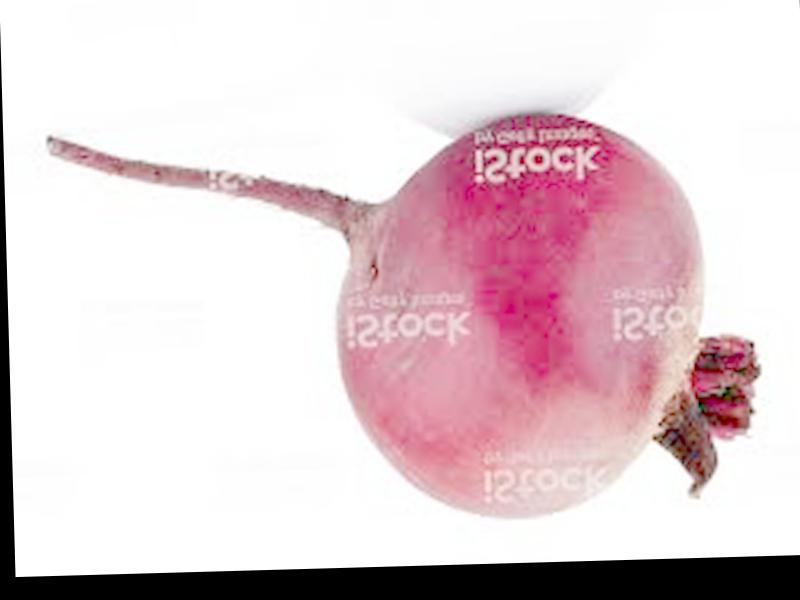Beet: (49, 108, 762, 528)
